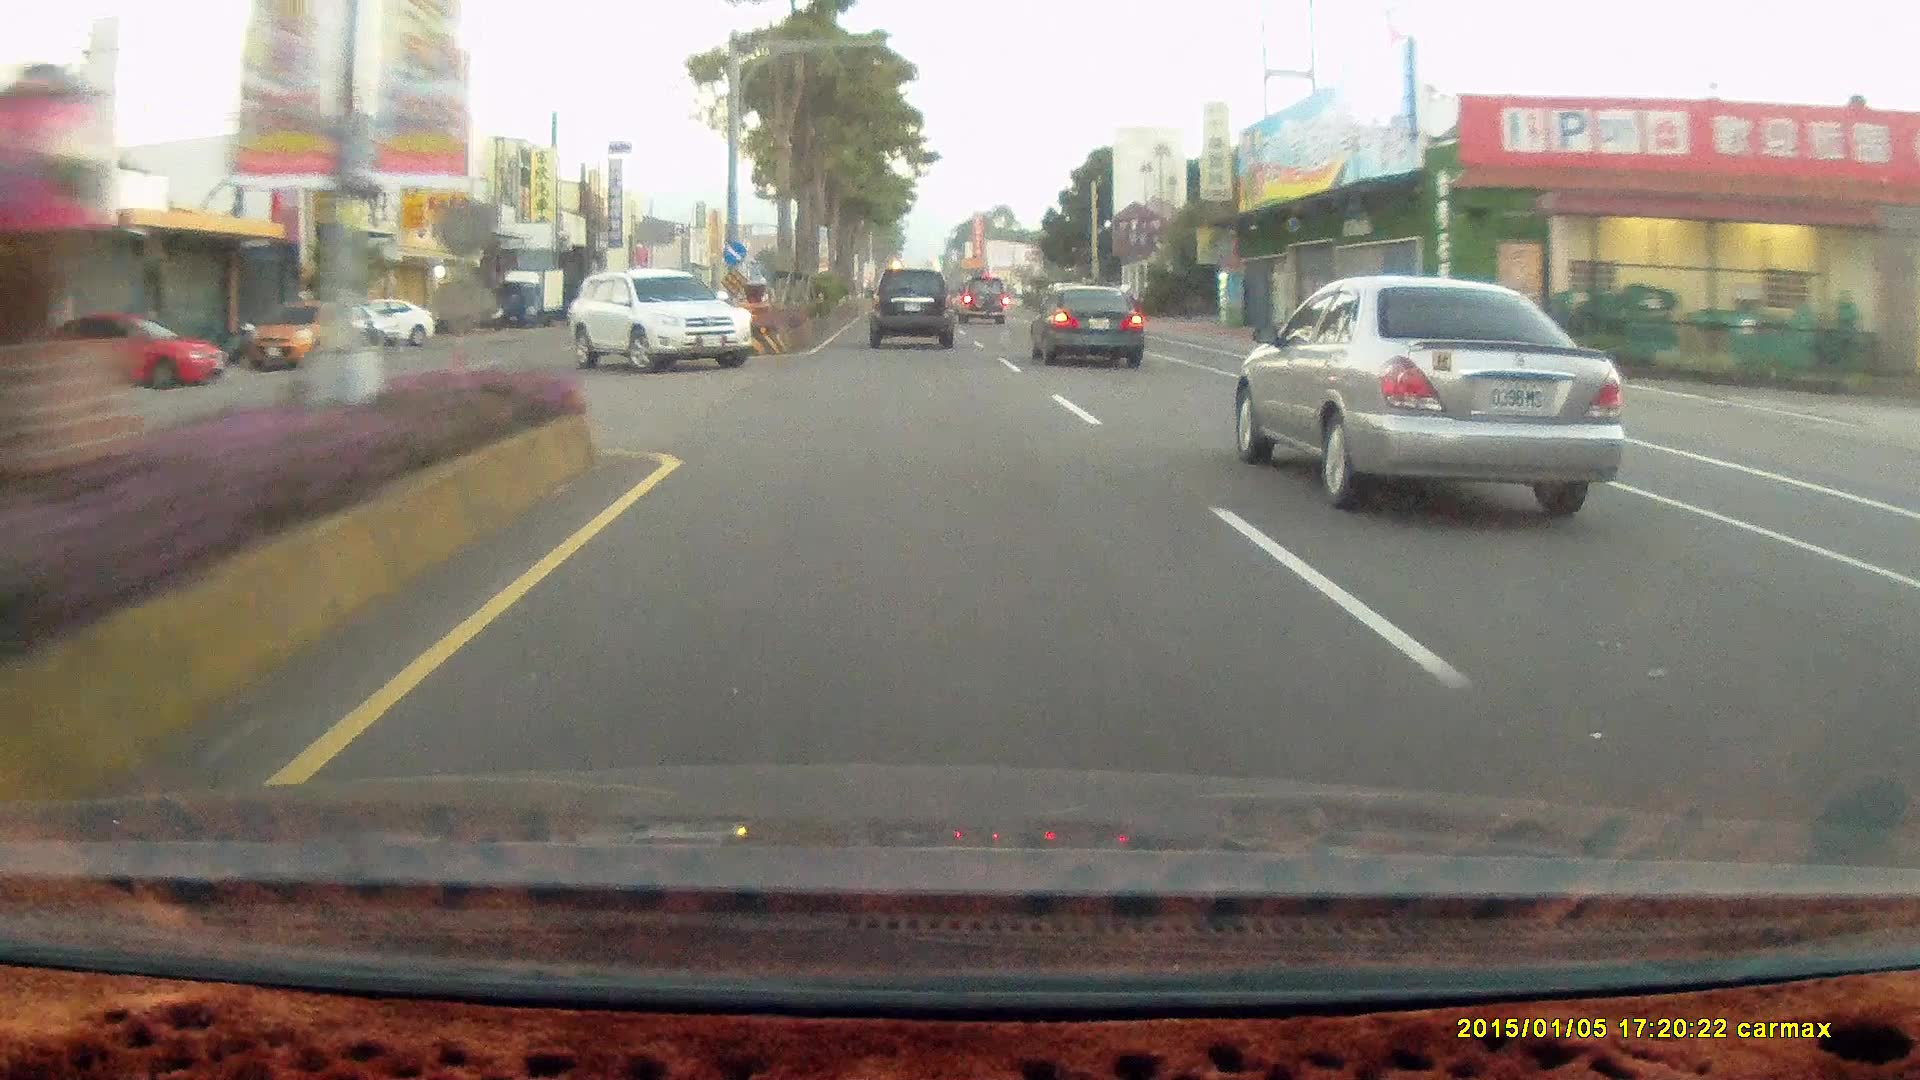vehicle: (1225, 276, 1625, 527), (564, 272, 756, 377), (564, 268, 753, 373), (13, 314, 214, 400), (26, 310, 222, 385), (1029, 285, 1149, 373), (1029, 282, 1145, 368), (865, 269, 961, 356), (247, 302, 356, 371), (866, 270, 952, 348), (326, 297, 434, 348), (956, 280, 1009, 328), (956, 278, 1009, 326)
